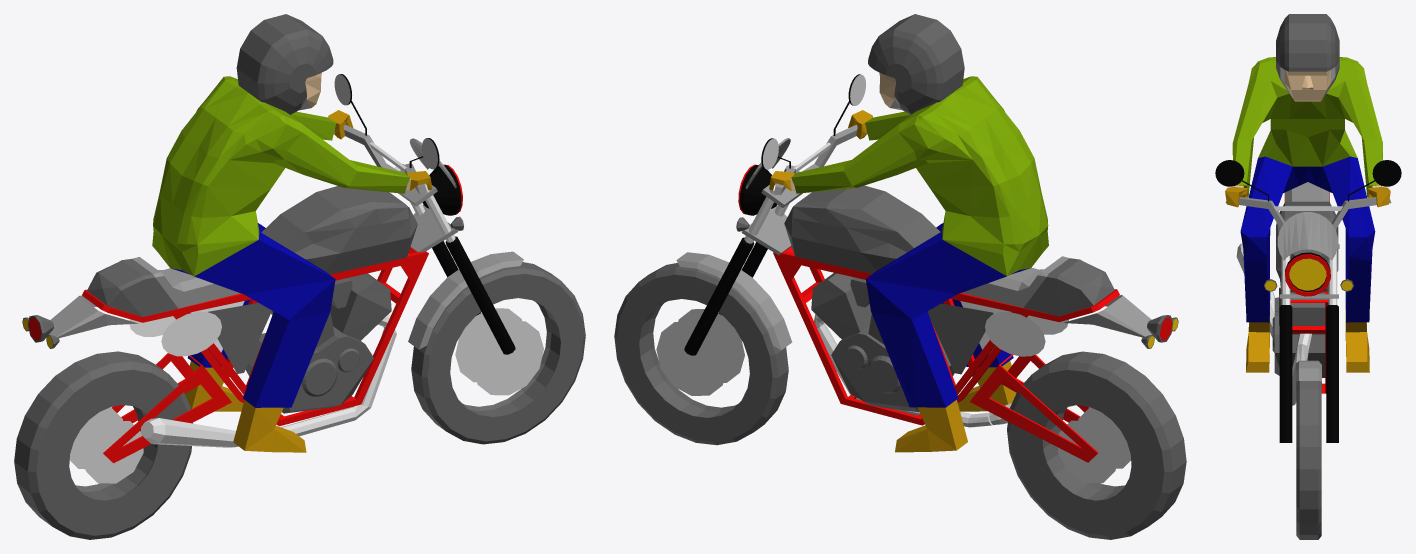
File: buccariderv3.glb
3 renders of one model, left to right at view 1: azimuth 30°, elevation 25°; view 2: azimuth 150°, elevation 25°; view 3: azimuth 270°, elevation 25°, orthographic. The views are drawn at different scales.
Parts seen in each view (by area): view 1: group_2, ID473, ID389, ID622, ID57, group_0, group_1, ID195, ID401, ID83, ID527, ID521 (+18 smaller); view 2: group_2, ID473, ID389, ID622, ID57, group_0, ID195, group_1, ID407, ID83, ID539, ID275 (+18 smaller); view 3: group_2, ID622, ID389, group_0, ID431, ID195, ID449, ID121, ID20, ID630, ID650, ID57 (+17 smaller).
Boxes of the visible parts, x1,y1,x2,y2 form: group_2: (152,76,409,276); ID473: (14,351,192,539); ID389: (411,262,585,444); ID622: (171,223,335,407); ID57: (261,186,417,274); group_0: (236,14,333,114); group_1: (82,247,428,426); ID195: (245,273,391,413); ID401: (472,321,543,395); ID83: (87,259,177,316); ID527: (103,355,231,463); ID521: (408,251,523,349); group_2: (791,76,1048,276); ID473: (1007,351,1186,539); ID389: (614,263,788,445); ID622: (866,223,1029,407); ID57: (784,185,940,273); group_0: (868,14,964,114); ID195: (811,273,954,412); group_1: (773,246,1119,425); ID407: (656,321,727,395); ID83: (1024,258,1114,316); ID539: (970,355,1098,462); ID275: (927,303,993,374); group_2: (1232,57,1382,197); ID622: (1240,156,1375,322); ID389: (1296,381,1321,539); group_0: (1276,14,1339,79); ID431: (1277,212,1337,260); ID195: (1274,287,1325,377); ID449: (1279,305,1292,442); ID121: (1326,305,1338,442); ID20: (1284,70,1330,101); ID630: (1345,309,1369,372); ID650: (1246,316,1269,372); ID57: (1276,201,1338,292).
Bounding box in the file's own units: 1.81 × 1.44 × 0.5794.
